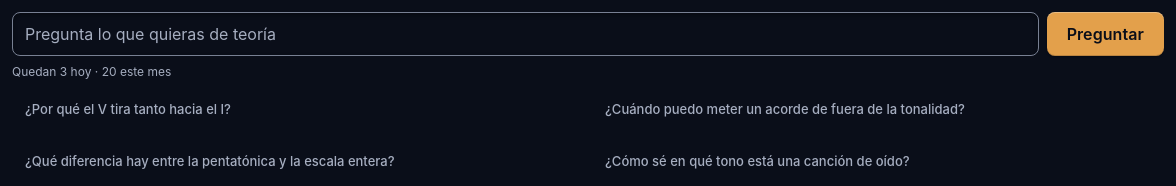
Test: cuando no sale › un «no entra en tu plan» lleva a la pantalla de planes
In the field with placeholder "Pregunta lo que quieras de teoría": (525, 34) [12, 12, 1039, 56], type "¿Por qué el V tira al i?"
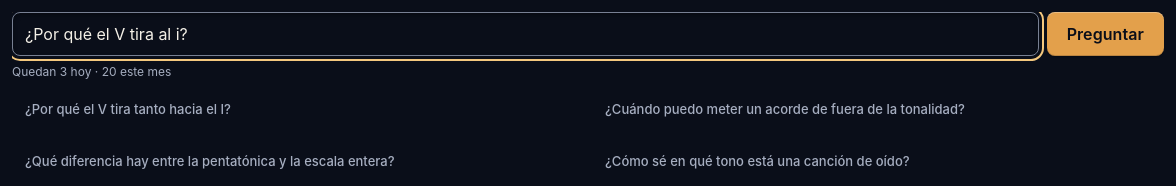
Click the button "Preguntar": (1105, 34) [1047, 12, 1164, 56]
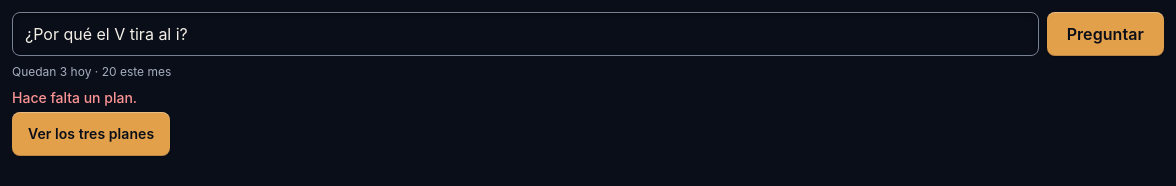
Now the message shows "Hace falta un plan.", box [12, 89, 137, 106]
Now the link "Ver los tres planes" is shown, box [12, 112, 170, 156]
